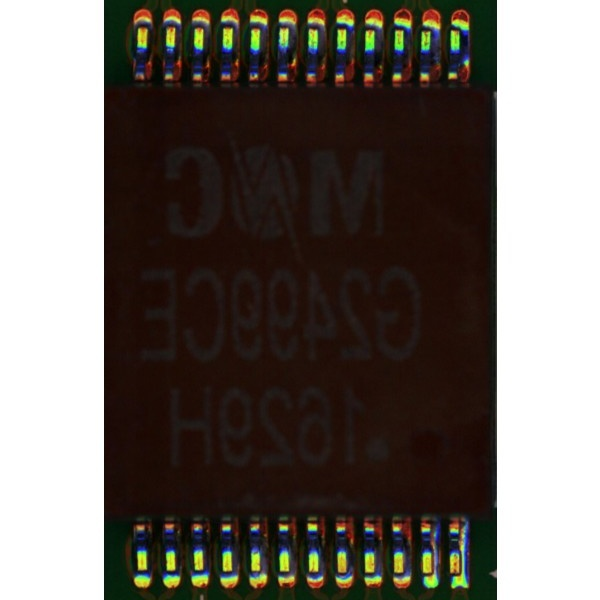Bad_qiaojiao: (460, 520, 468, 573), (433, 523, 440, 574)
